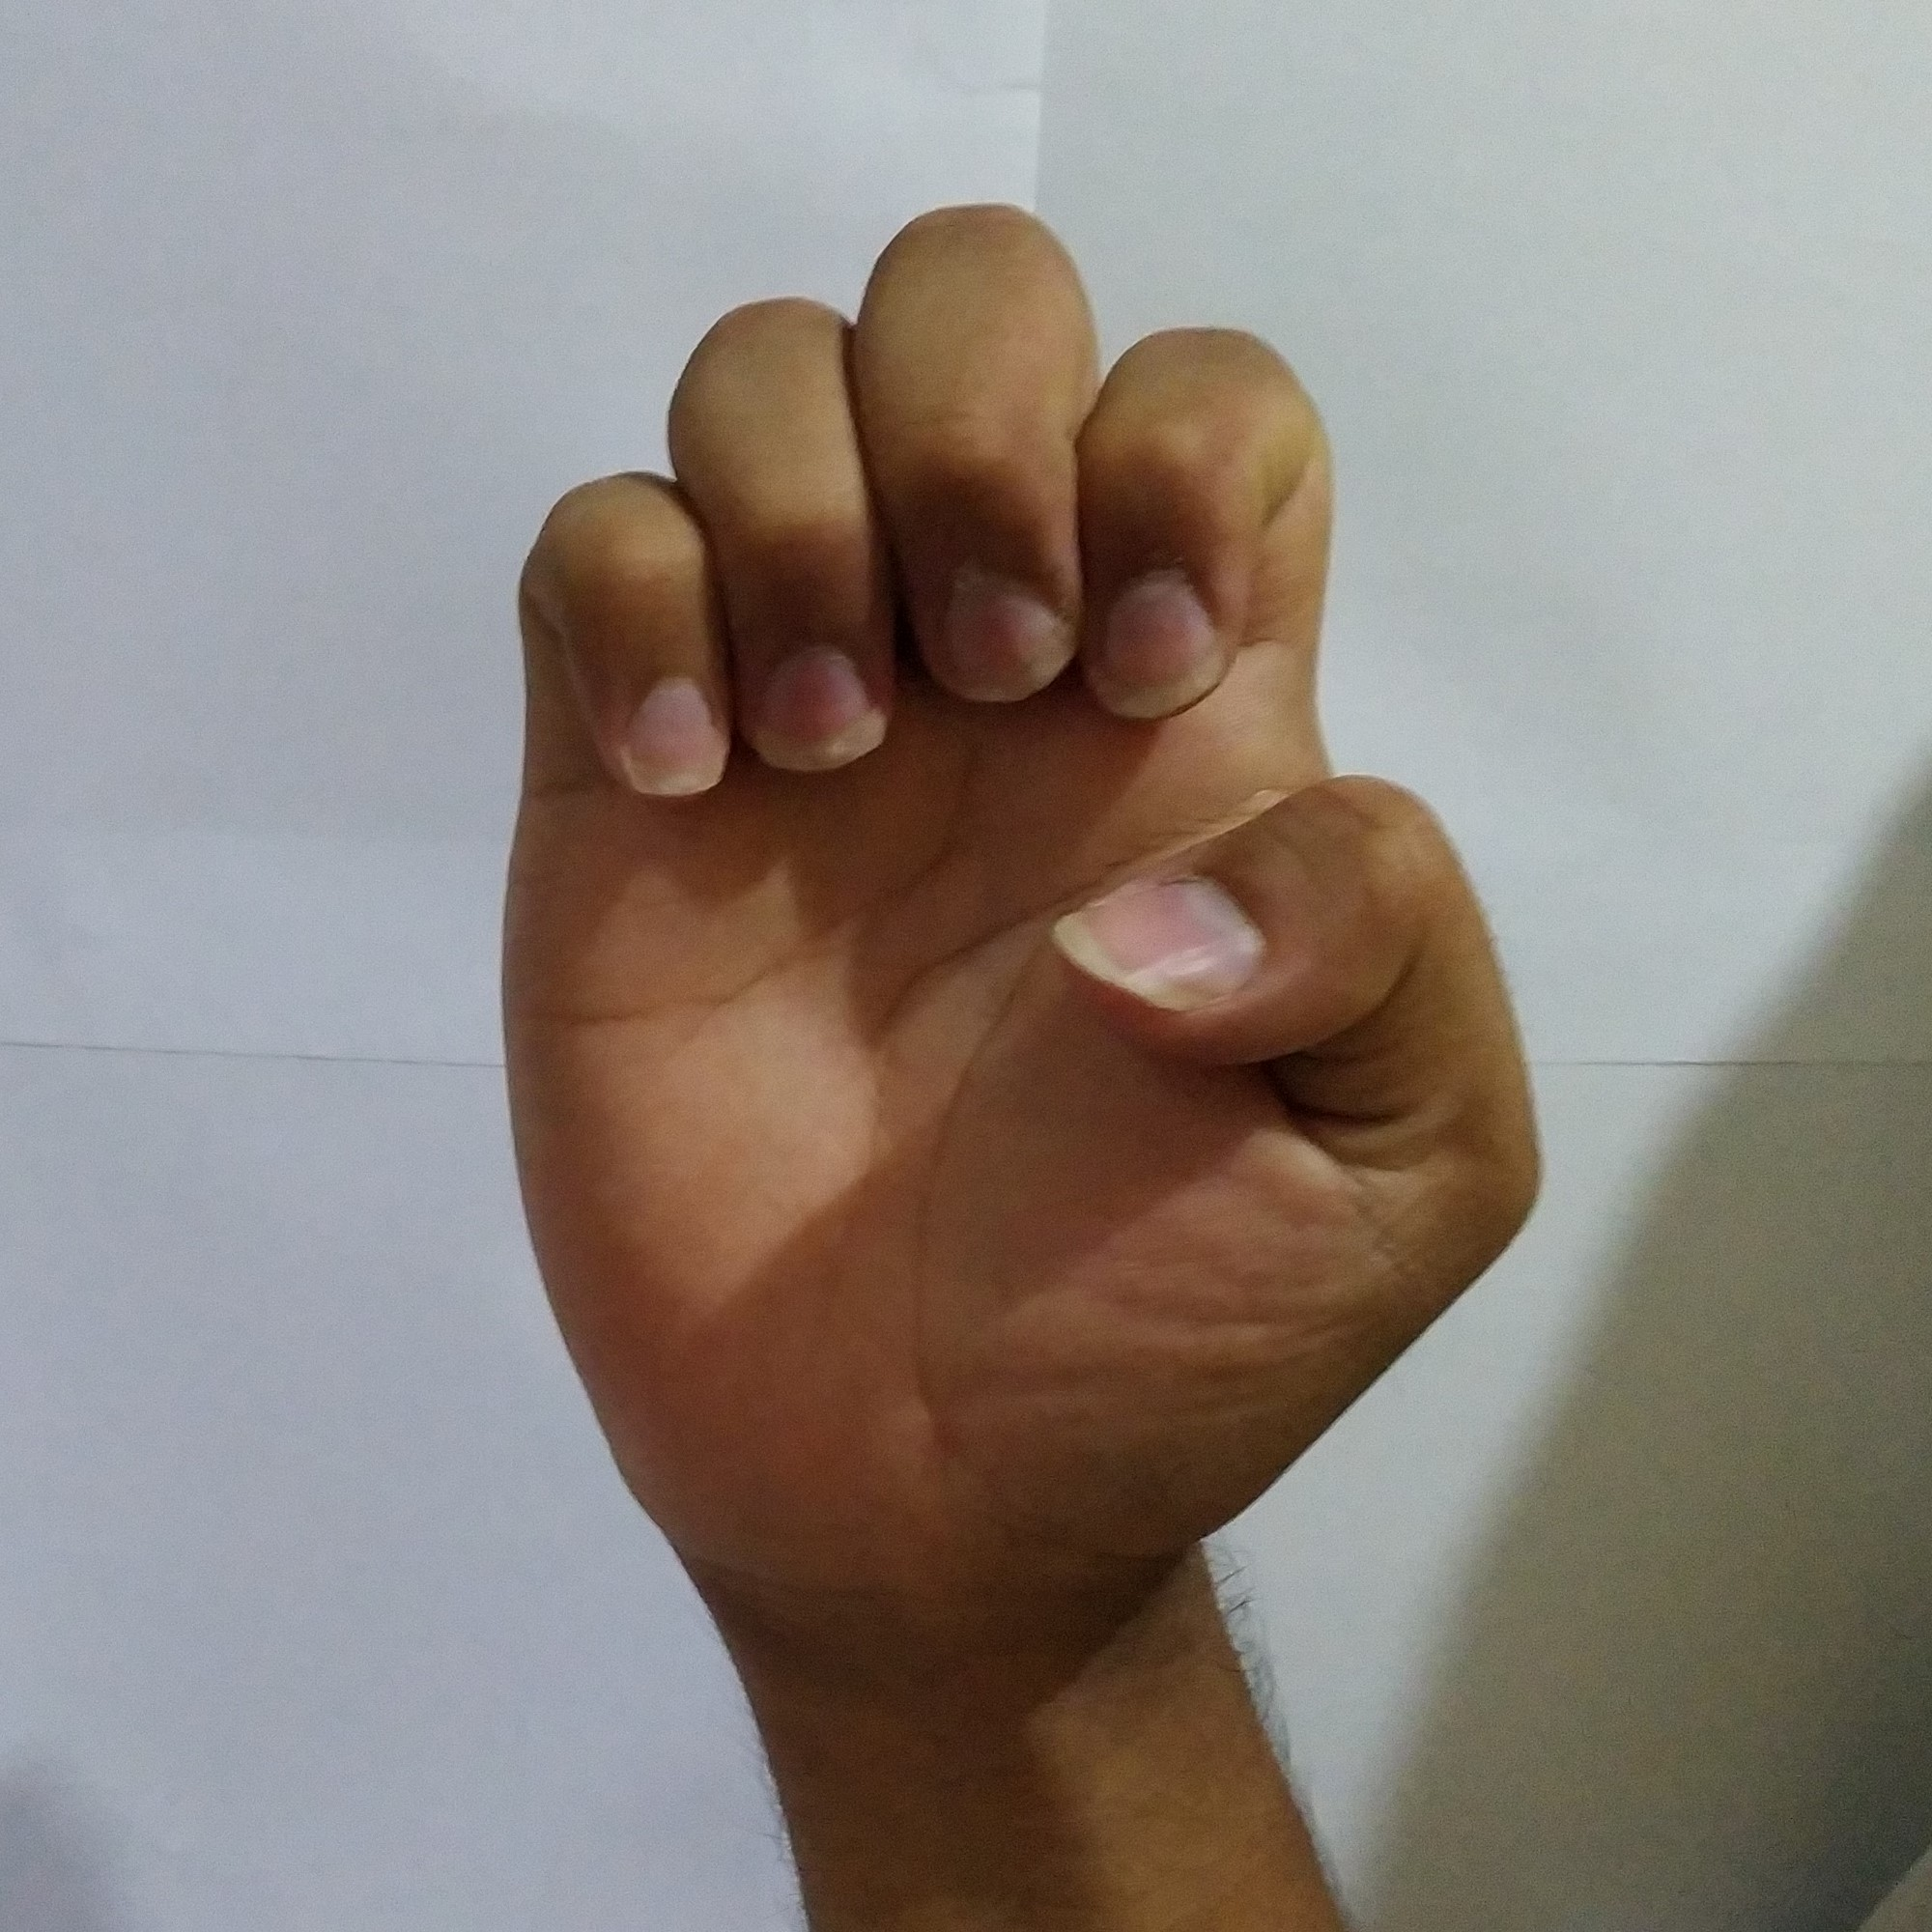E: (471, 180, 1562, 1552)
